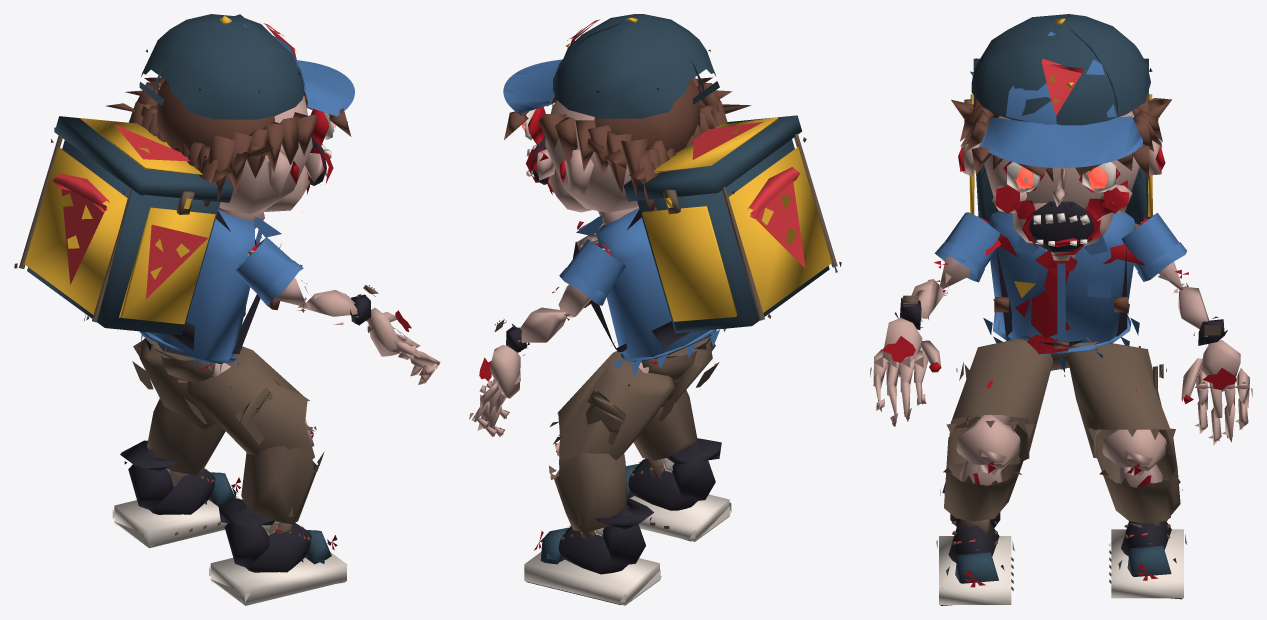
3 views of the same model, side by side, from view 1: azimuth 30°, elevation 25°; view 2: azimuth 150°, elevation 25°; view 3: azimuth 270°, elevation 25° (orthographic). The views are drawn at different scales.
Visible parts, largest first — view 1: torso, head, footR, legR, footL, shinR, shinL, armR, legL, handR, foreArmR, hip; view 2: torso, head, footL, legL, footR, shinL, armL, handL, shinR, foreArmL, hip, legR; view 3: head, torso, legL, legR, shinR, shinL, footR, footL, handL, handR, armR, armL (+3 smaller).
Part boxes in pixels (box(x1,y1,x2,y2)): torso: box(14, 116, 281, 375); head: box(106, 14, 354, 228); footR: box(209, 497, 346, 605); legR: box(184, 346, 314, 458); footL: box(112, 440, 240, 548); shinR: box(241, 419, 324, 533); shinL: box(147, 398, 225, 486); armR: box(234, 237, 307, 310); legL: box(132, 338, 217, 429); handR: box(366, 308, 440, 384); foreArmR: box(301, 280, 378, 325); hip: box(144, 337, 222, 383); torso: box(573, 115, 841, 376); head: box(503, 14, 751, 225); footL: box(524, 498, 661, 605); legL: box(550, 342, 678, 464); footR: box(626, 438, 731, 541); shinL: box(549, 433, 627, 532); armL: box(558, 239, 625, 317); handL: box(469, 345, 520, 437); shinR: box(633, 390, 697, 460); foreArmL: box(494, 287, 570, 355); hip: box(642, 336, 711, 382); legR: box(661, 341, 719, 406); head: box(951, 14, 1171, 270); torso: box(964, 58, 1159, 372); legL: box(1068, 337, 1175, 458); legR: box(946, 335, 1053, 464); shinR: box(940, 415, 1028, 525); shinL: box(1095, 429, 1182, 527); footR: box(935, 482, 1014, 605); footL: box(1108, 479, 1187, 599); handL: box(1181, 340, 1252, 445); handR: box(870, 318, 941, 426); armR: box(935, 212, 1000, 290); armL: box(1121, 213, 1188, 293).
Size of the model in its own units: 1.07 by 1.8 by 1.12.
